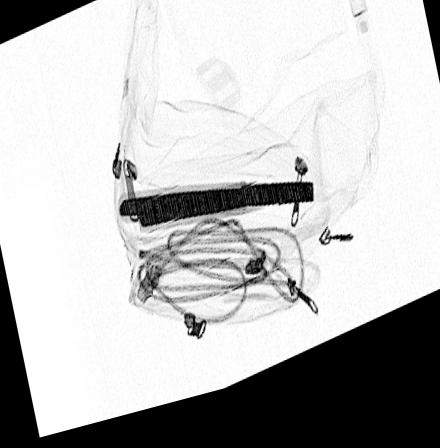Pliers: (116, 191, 314, 239)
